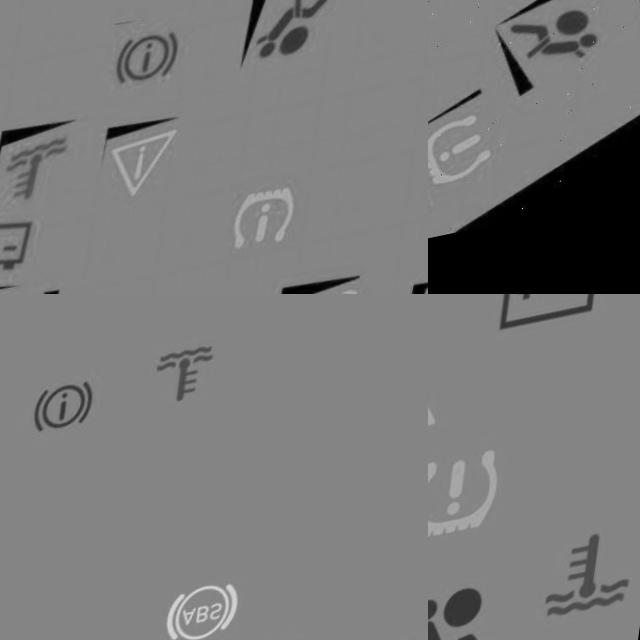High Engine Coolant Temperature: (540, 530, 640, 640), (148, 343, 232, 432)
